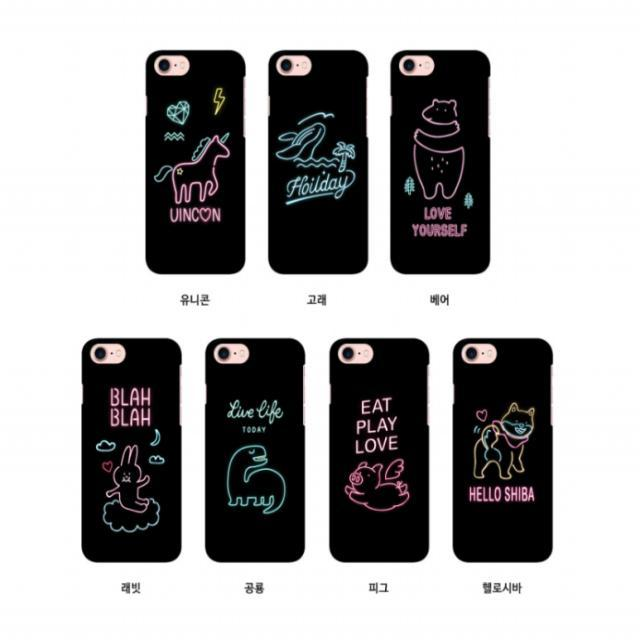phone: (267, 49, 369, 274), (81, 338, 182, 562), (205, 338, 306, 562), (452, 338, 553, 562), (330, 337, 430, 563), (390, 49, 490, 274), (146, 50, 246, 274)
